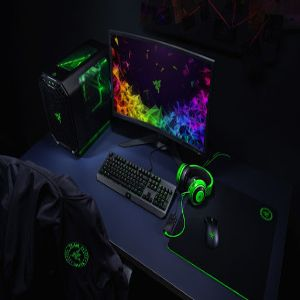headset: (175, 159, 216, 208)
keyboard: (95, 144, 176, 215)
mouse: (203, 215, 221, 252)
